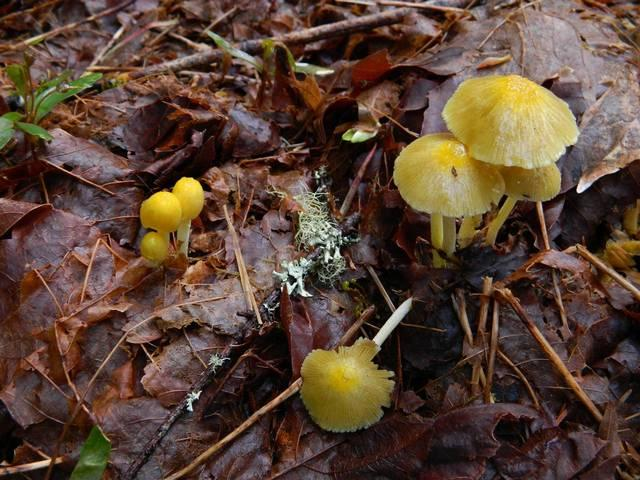Edible Mushroom: (440, 72, 580, 247), (392, 131, 505, 257), (299, 319, 405, 440)
